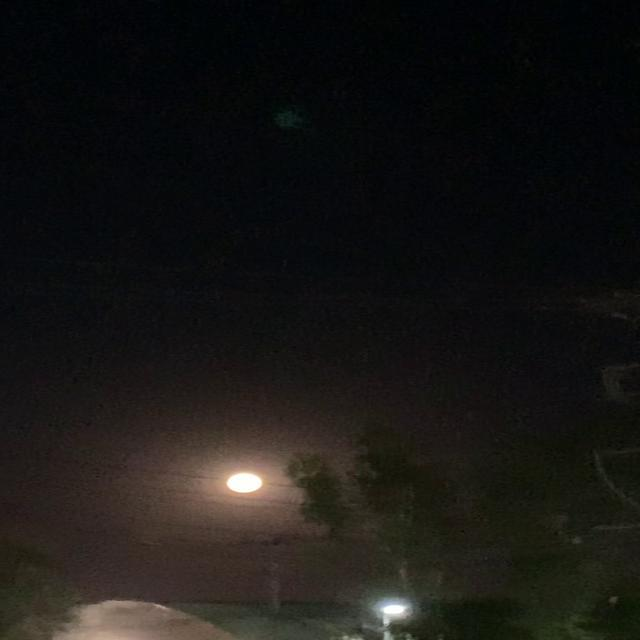moon: (227, 458, 280, 483)
